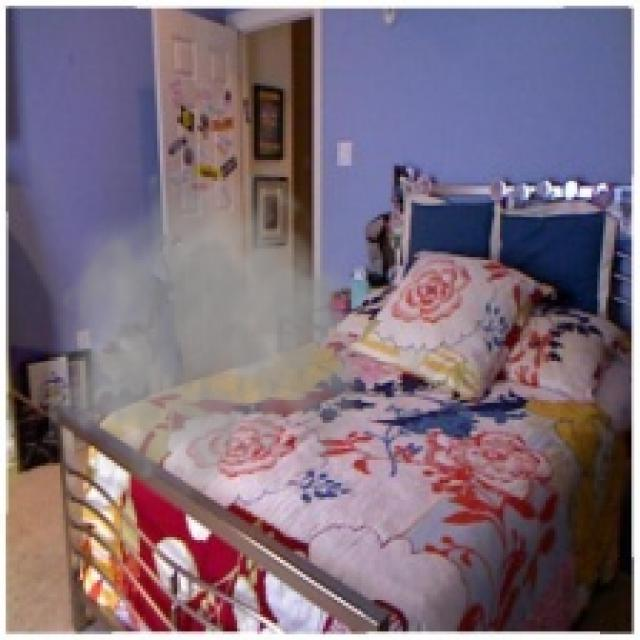smoke: (49, 160, 394, 509)
